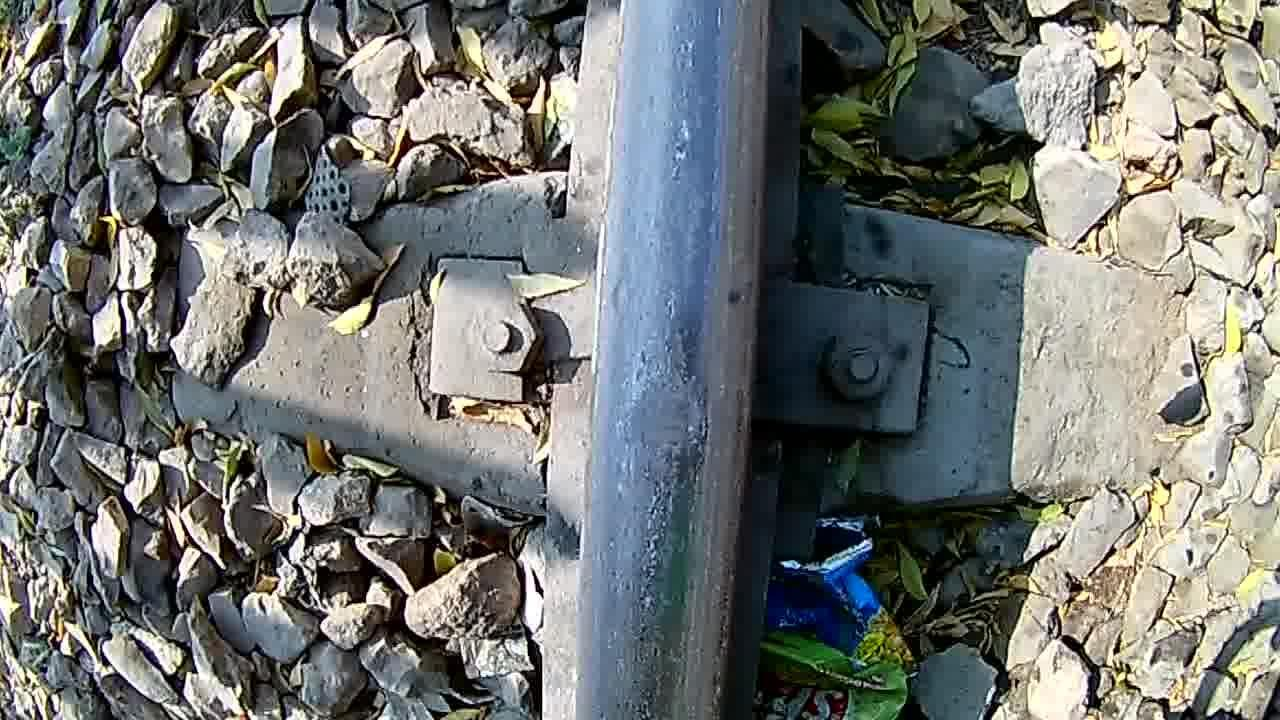crack: (590, 234, 769, 566)
